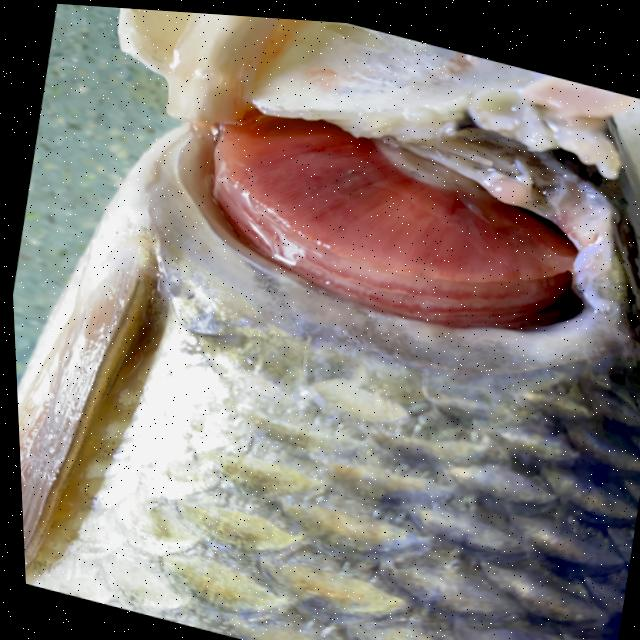Fresh: (127, 32, 640, 383)
